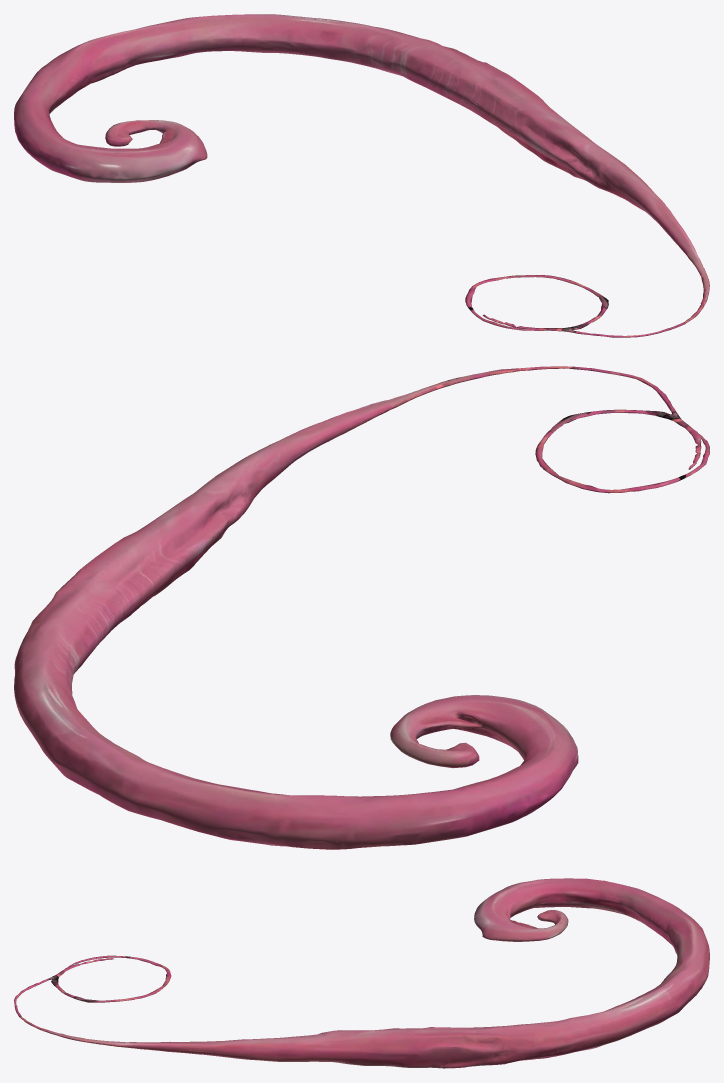
The model's file is trichuris-trichiura_A_optimized.glb.
3 views of the same model, one above another, from view 1: azimuth 30°, elevation 25°; view 2: azimuth 150°, elevation 25°; view 3: azimuth 270°, elevation 25° (orthographic). The views are drawn at different scales.
Parts seen in each view (by area): view 1: ExtPost_mesh, ExtAnt_mesh; view 2: ExtPost_mesh, ExtAnt_mesh; view 3: ExtPost_mesh, ExtAnt_mesh.
Part boxes in pixels (<box>): ExtPost_mesh: <box>14,14,707,322</box>; ExtAnt_mesh: <box>465,74,709,337</box>; ExtPost_mesh: <box>14,564,578,849</box>; ExtAnt_mesh: <box>79,366,709,619</box>; ExtPost_mesh: <box>88,878,709,1068</box>; ExtAnt_mesh: <box>14,955,466,1068</box>.
Bounding box in the file's own units: 1.15 × 0.1092 × 2.
1 material, 1 textured.
